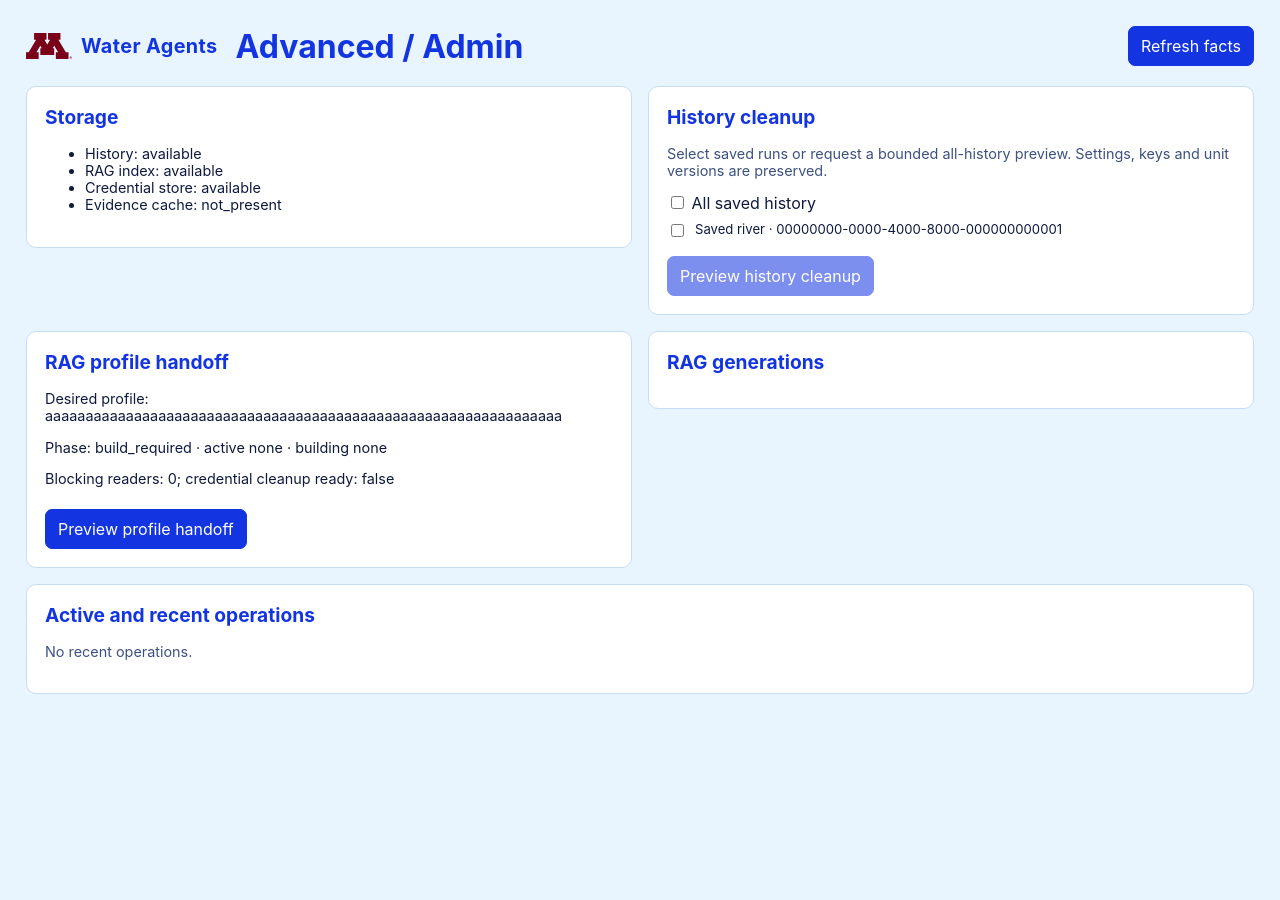
Test: invalidates admin_preview_expired confirmation instead of repeating the mutation
Expected: the text "Saved river · 00000000-0000-4000-8000-000000000001" is shown, [671, 221, 1062, 237]
Step 1. Click the checkbox labelled "Saved river · 00000000-0000-4000-8000-000000000001" → (678, 231), box [671, 224, 684, 237]
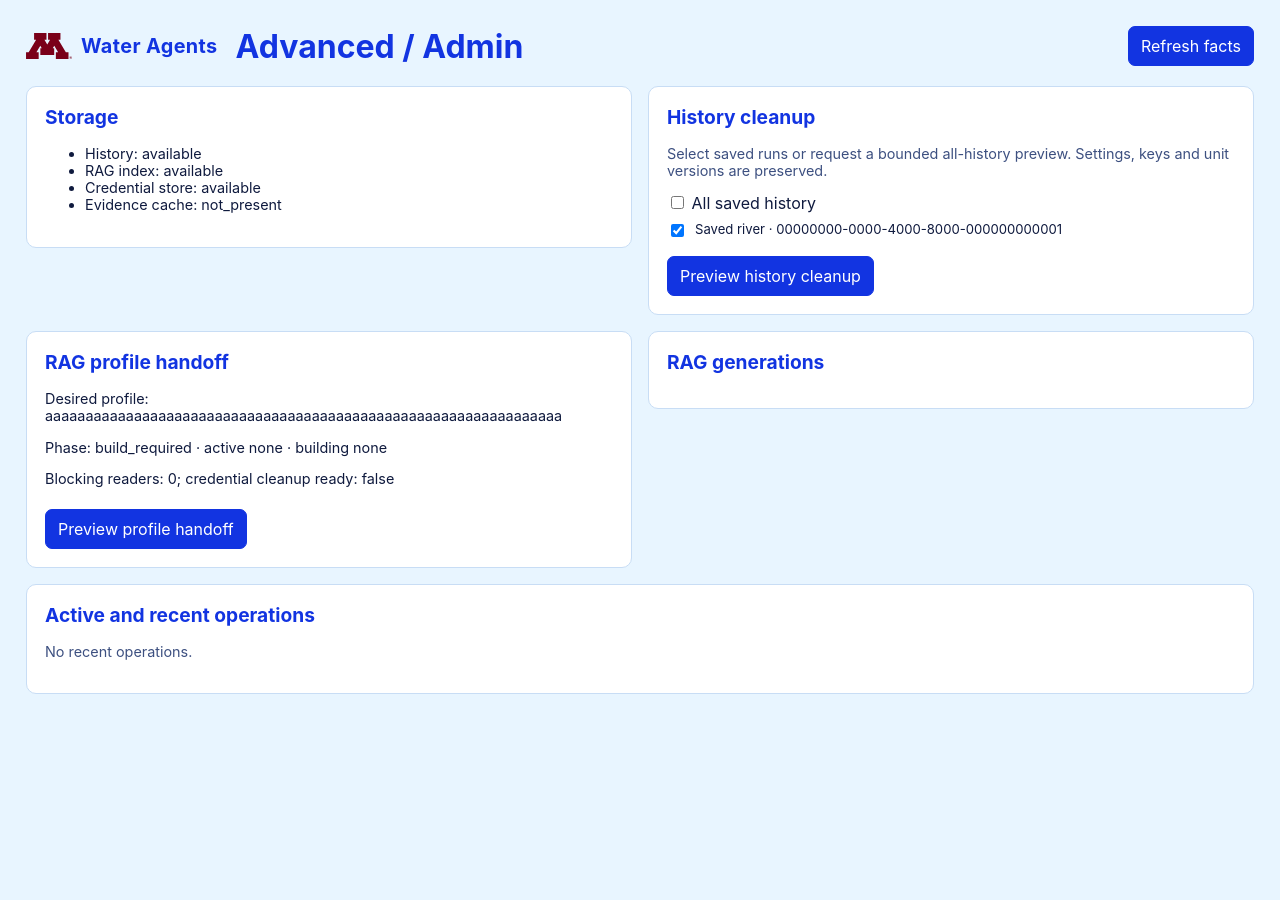
Step 2. Click the button "Preview history cleanup" → (770, 276), box [667, 256, 874, 296]
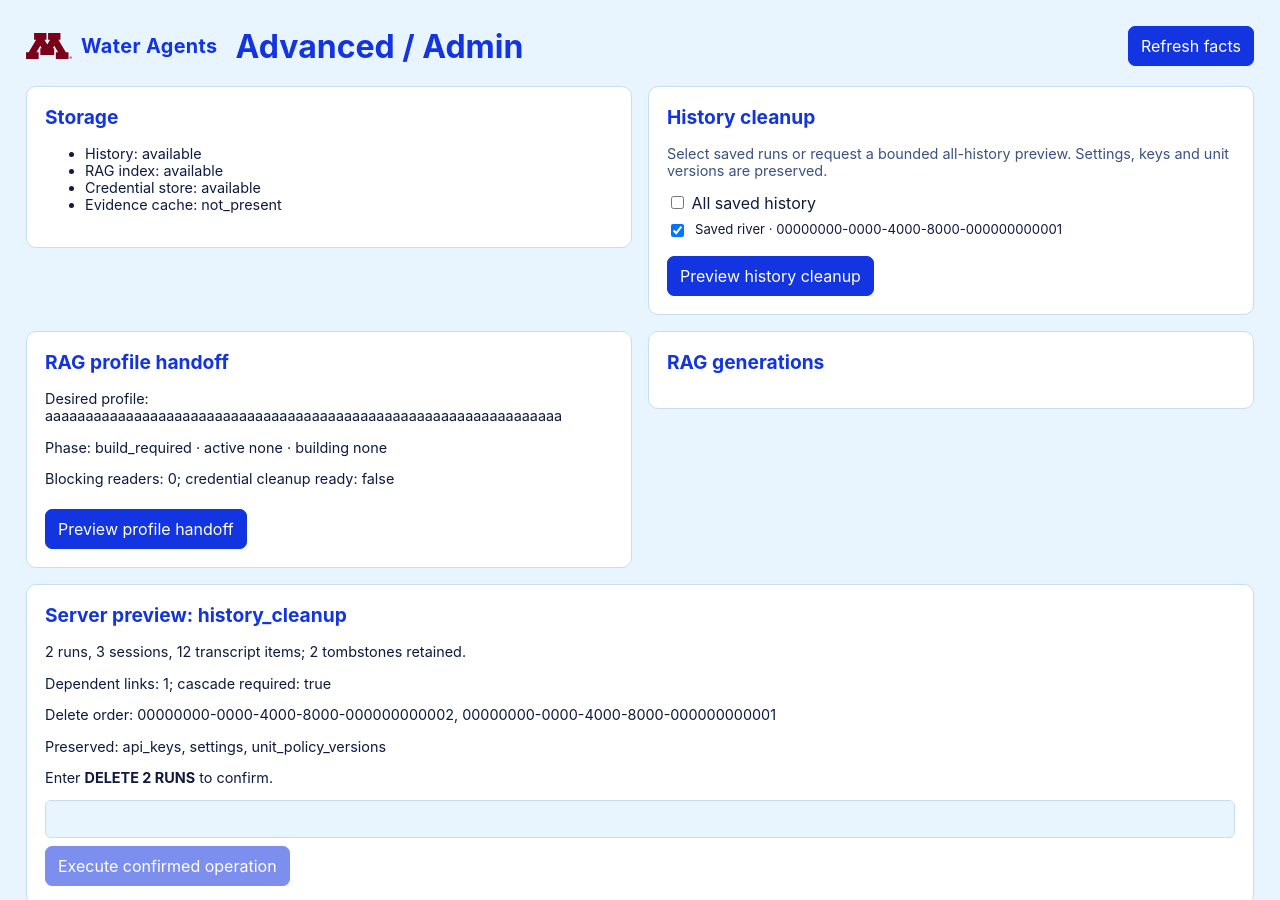
Result: the field named "Admin confirmation phrase" is shown
Step 3. Type "DELETE 2 RUNS" into the field named "Admin confirmation phrase" → (640, 819), box [45, 800, 1235, 838]
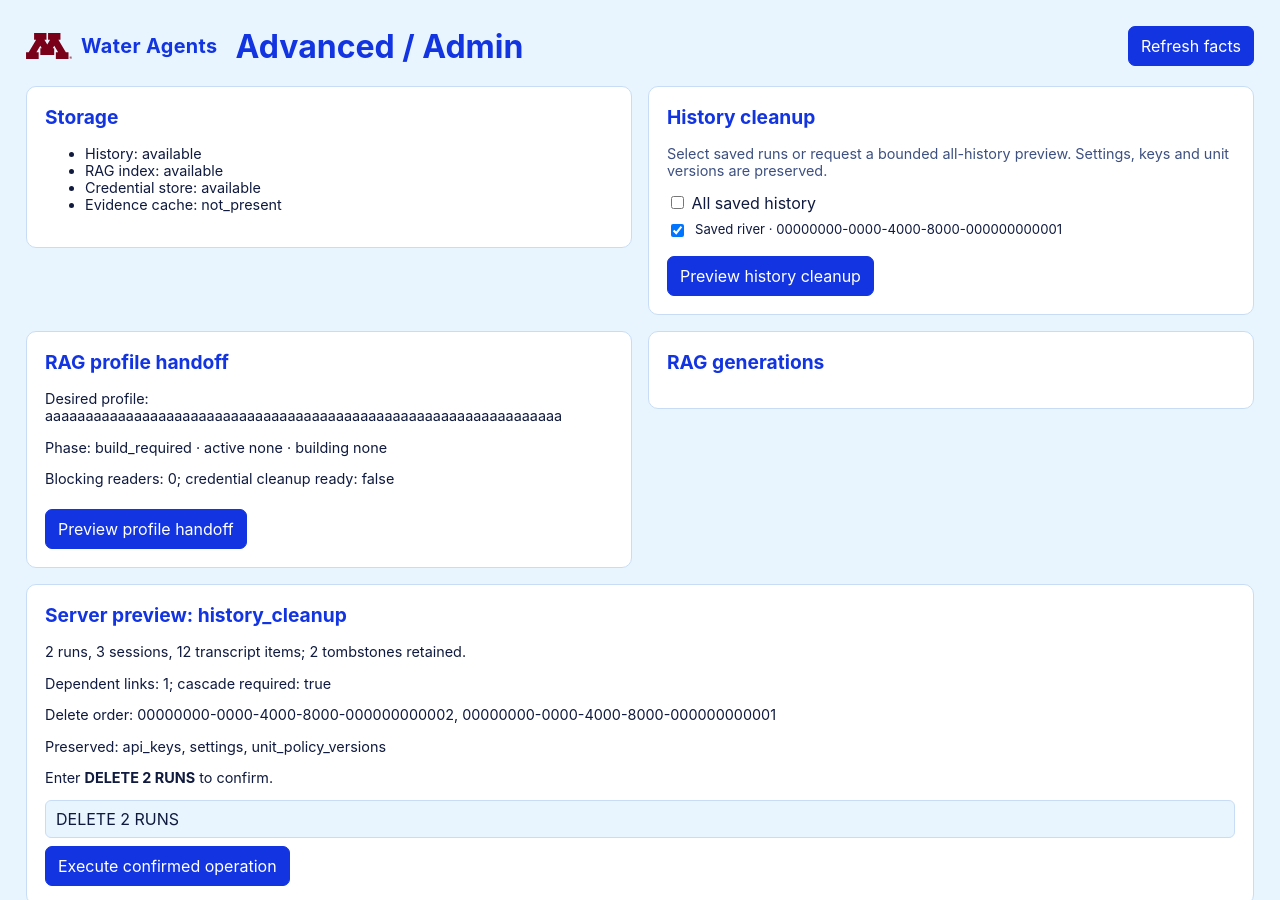
Step 4. Click the button "Execute confirmed operation" → (167, 866), box [45, 846, 290, 886]
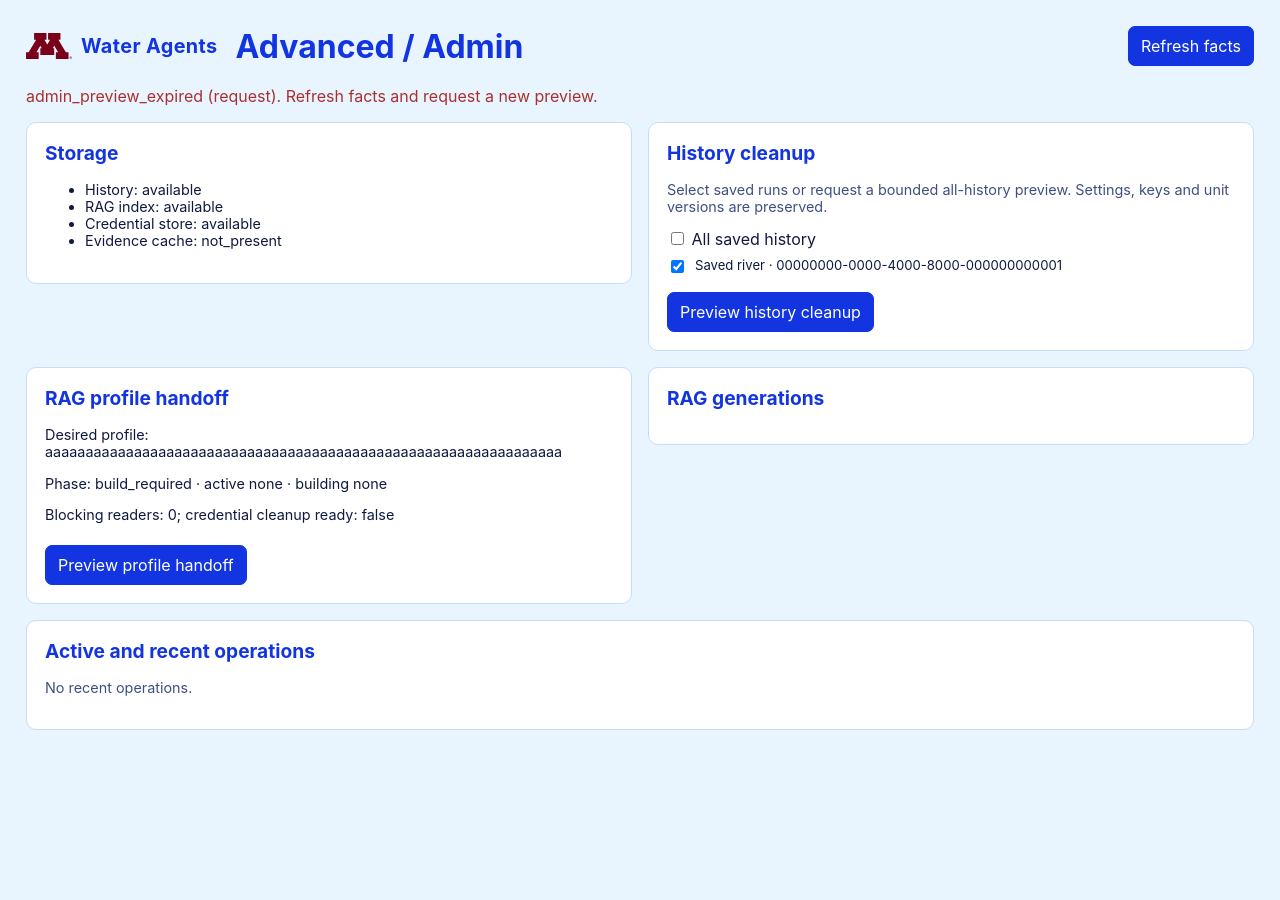
Result: the message shows "admin_preview_expired" at [26, 86, 598, 106]
